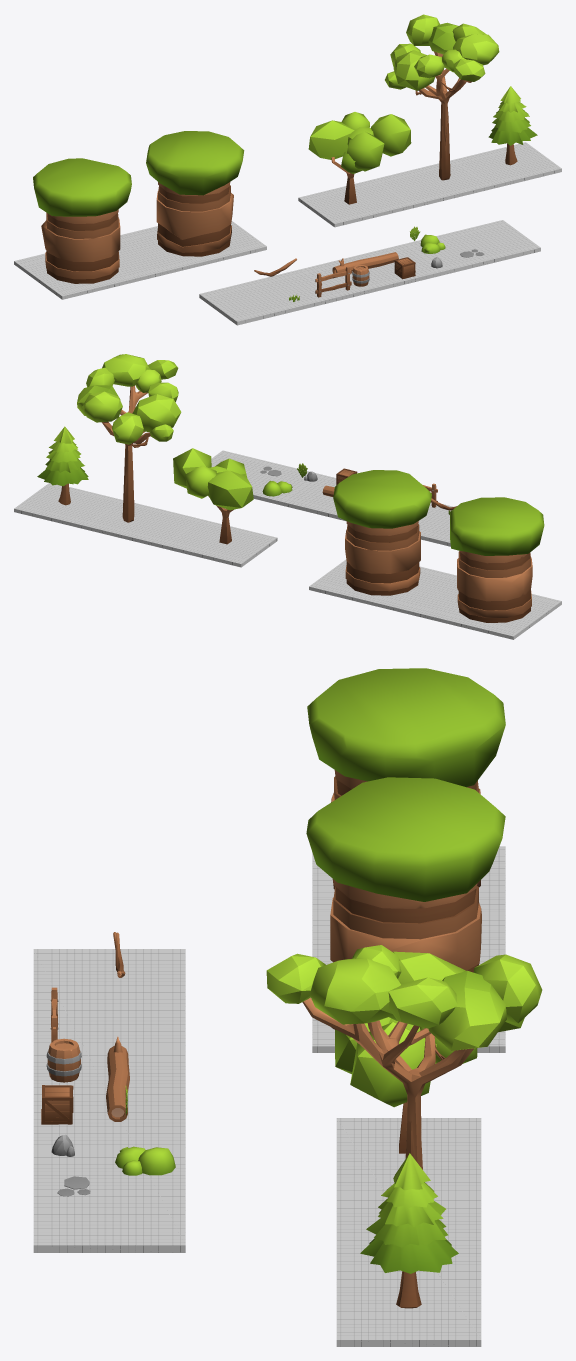
3 renders of one model, top to bottom at view 1: azimuth 30°, elevation 25°; view 2: azimuth 150°, elevation 25°; view 3: azimuth 270°, elevation 25°, orthographic. The views are drawn at different scales.
Parts seen in each view (by area): view 1: Plane.013, Plane.011, leaves, Plane, Body.002, Body, Body.003, Icosphere.021, Body.001, Leaves.001, Body.004, trunk (+2 smaller); view 2: Plane.011, leaves, Plane, Body, Body.003, Body.002, Plane.013, Body.001, Icosphere.021, Leaves.001, Body.004, trunk (+1 smaller); view 3: Plane.013, Plane.011, Body.002, Body.003, leaves, Body.001, Leaves.001, trunk, Plane, Icosphere.021, Body.004, Cylinder.010 (+2 smaller).
Part boxes in pixels (left/top/right/bottom): Plane.013: left=199, top=220, right=540, bottom=325; Plane.011: left=298, top=142, right=561, bottom=227; leaves: left=385, top=14, right=499, bottom=90; Plane: left=14, top=221, right=266, bottom=299; Body.002: left=146, top=131, right=244, bottom=195; Body: left=41, top=209, right=120, bottom=283; Body.003: left=33, top=158, right=131, bottom=216; Icosphere.021: left=308, top=112, right=411, bottom=173; Body.001: left=156, top=182, right=233, bottom=252; Leaves.001: left=488, top=86, right=537, bottom=145; Body.004: left=158, top=186, right=230, bottom=256; trunk: left=415, top=51, right=471, bottom=180; Plane.011: left=14, top=483, right=277, bottom=567; leaves: left=77, top=354, right=181, bottom=444; Plane: left=309, top=559, right=561, bottom=639; Body: left=457, top=551, right=532, bottom=622; Body.003: left=450, top=497, right=544, bottom=555; Body.002: left=333, top=470, right=431, bottom=528; Plane.013: left=211, top=450, right=453, bottom=546; Body.001: left=345, top=521, right=420, bottom=591; Icosphere.021: left=173, top=448, right=253, bottom=510; Leaves.001: left=37, top=426, right=88, bottom=486; Body.004: left=346, top=525, right=419, bottom=595; trunk: left=102, top=385, right=150, bottom=522; Plane.013: left=33, top=949, right=185, bottom=1252; Plane.011: left=336, top=1118, right=481, bottom=1346; Body.002: left=306, top=777, right=505, bottom=901; Body.003: left=307, top=668, right=505, bottom=787; leaves: left=266, top=945, right=542, bottom=1050; Body.001: left=330, top=879, right=481, bottom=970; Leaves.001: left=360, top=1153, right=458, bottom=1273; trunk: left=302, top=998, right=473, bottom=1169; Plane: left=312, top=846, right=505, bottom=1052; Icosphere.021: left=335, top=1017, right=477, bottom=1107; Body.004: left=335, top=887, right=478, bottom=972; Cylinder.010: left=106, top=1036, right=129, bottom=1121.
Size of the model in its own units: 80.67 by 23.15 by 35.14.
Materials: 2 (2 with a texture image).
